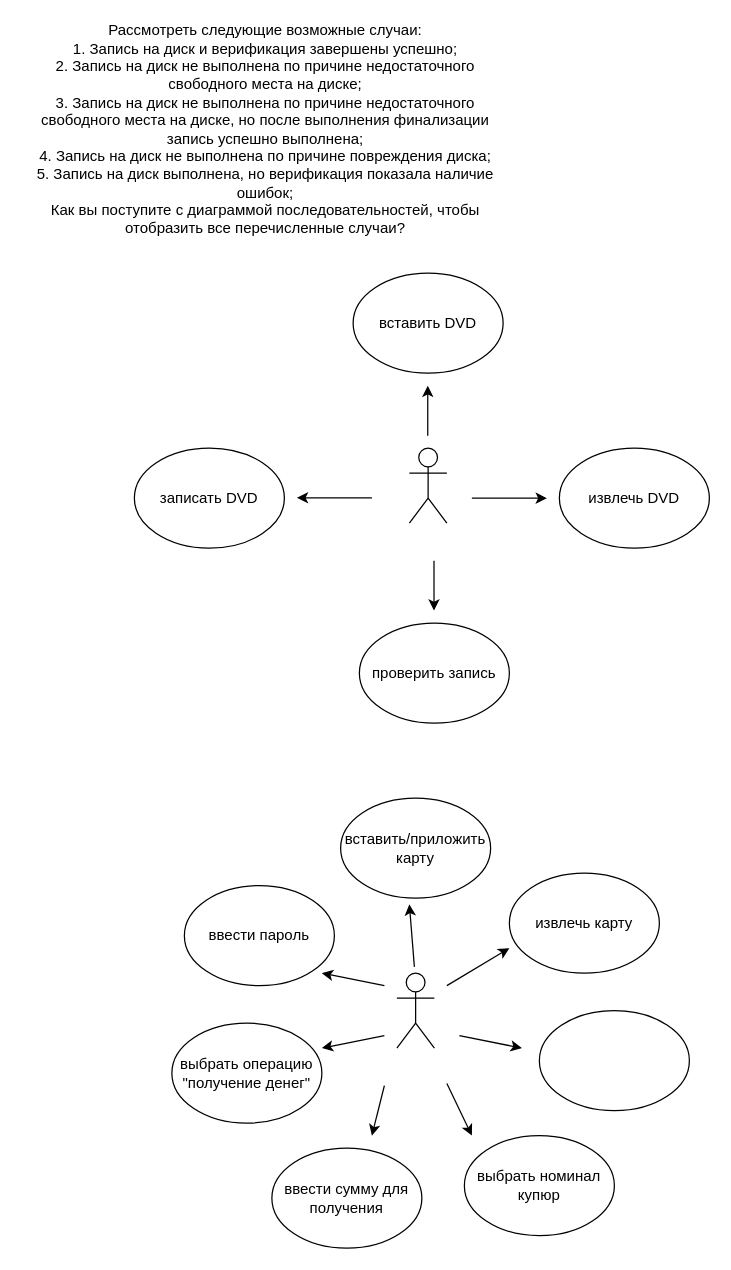
Some shapes in this 731 by 1270 pixel diagram are drawn without their labels. Here are the shapes that lost their labels. From the top down, the centre of each, then its label:
point 427,485: пользователь
point 415,1010: клиент банка
point 613,1060: забрать деньги
